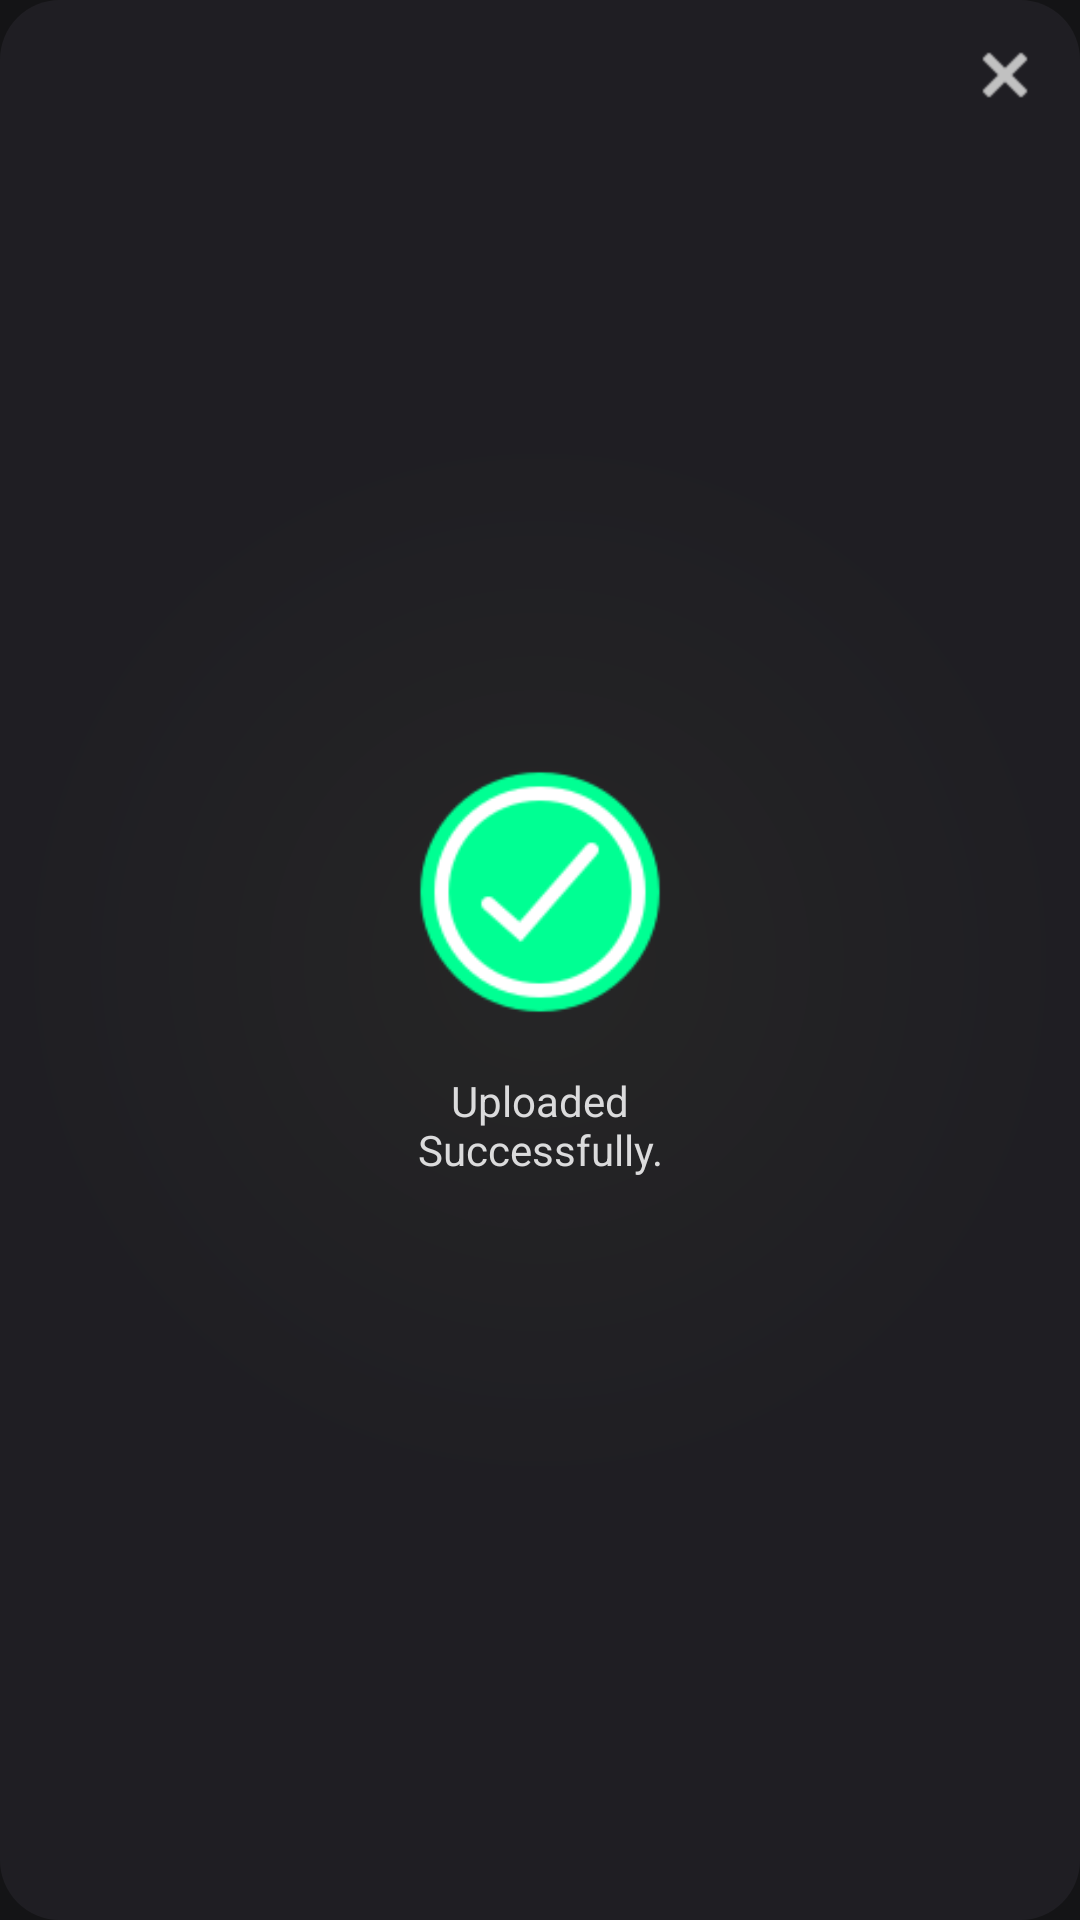

Locate icon controls on the screen. Image size 1080 x 1920, boxes as (x1, y1, x2, y2).
close: (982, 52, 1028, 98)
done: (420, 772, 660, 1012)
